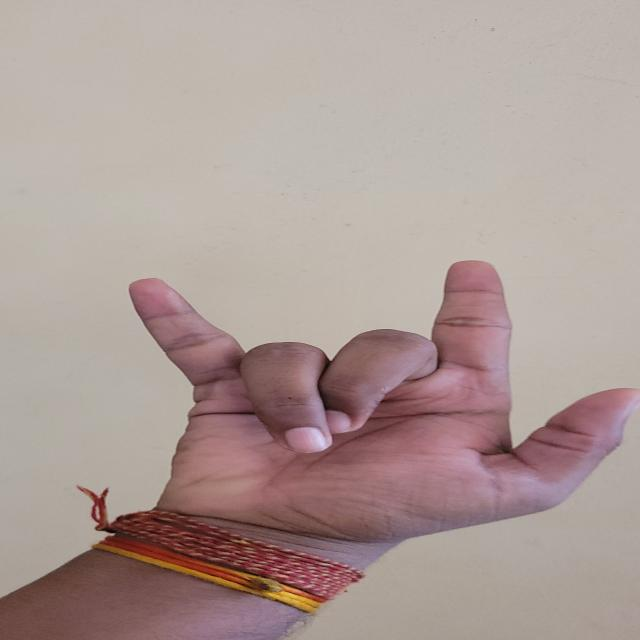i like you: (47, 196, 640, 565)
